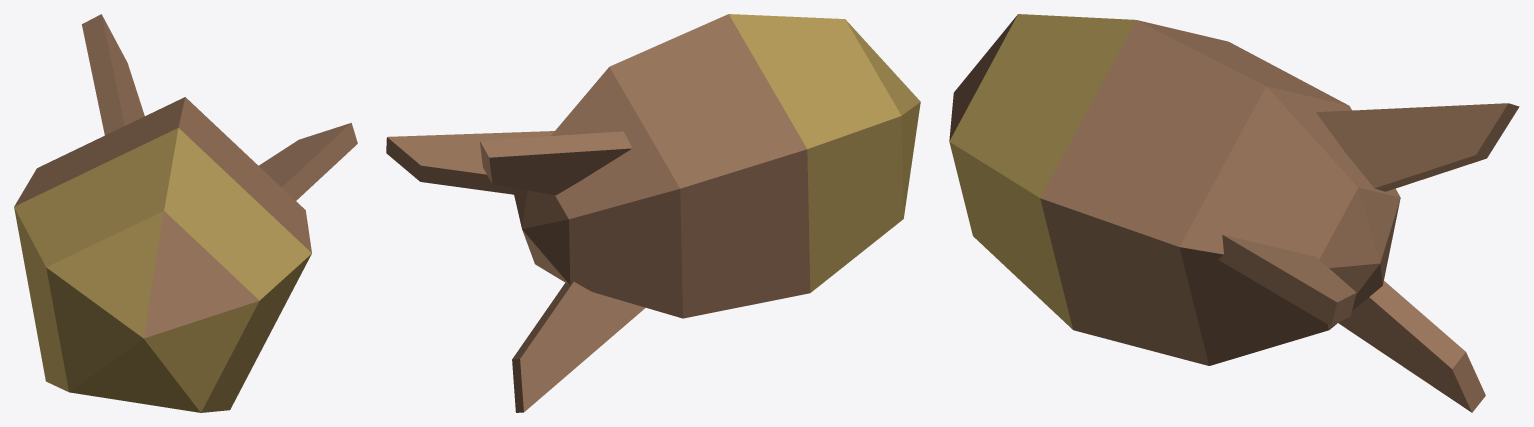
Rendered from Бомба (плавает).fbx.
The picture shows the model from 3 angles, left to right: view 1: azimuth 30°, elevation 25°; view 2: azimuth 150°, elevation 25°; view 3: azimuth 270°, elevation 25°; orthographic projection. The views are drawn at different scales.
Parts seen in each view (by area): view 1: pCube5; view 2: pCube5; view 3: pCube5.
Part boxes in pixels (x1=…): pCube5: x1=14, y1=14, x2=357, y2=412; pCube5: x1=386, y1=14, x2=920, y2=412; pCube5: x1=949, y1=14, x2=1519, y2=412.
Size of the model in its own units: 0.4199 by 0.3032 by 0.441.
